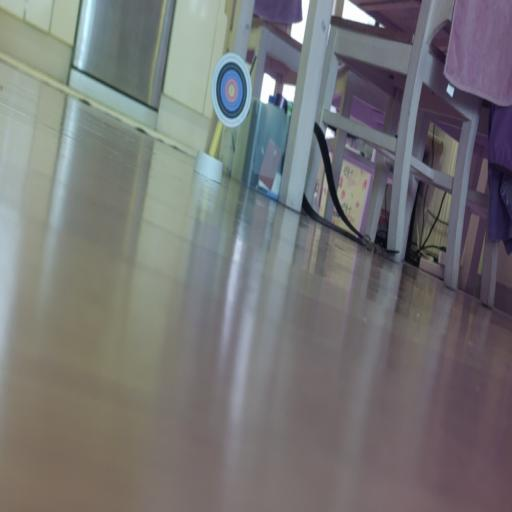target: (211, 53, 252, 127)
